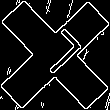L_SW: (26, 27, 84, 83)
